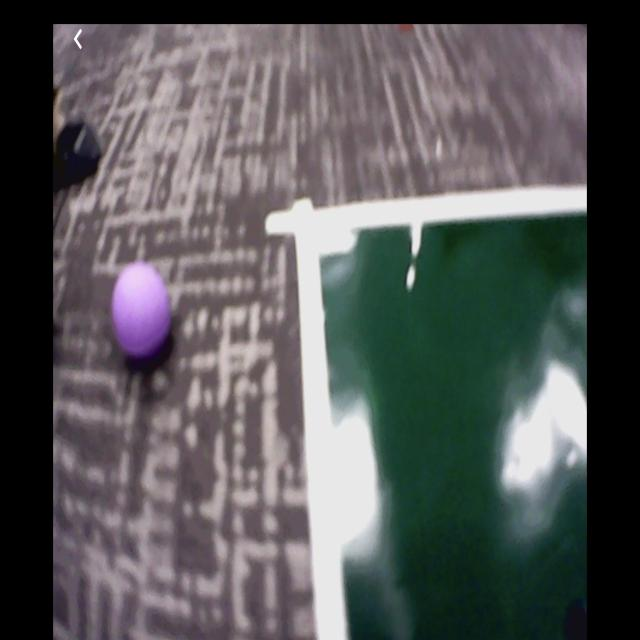ball: (113, 264, 171, 357)
